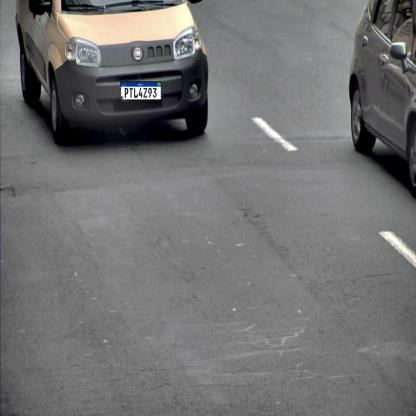PlacaM: (120, 81, 162, 101)
